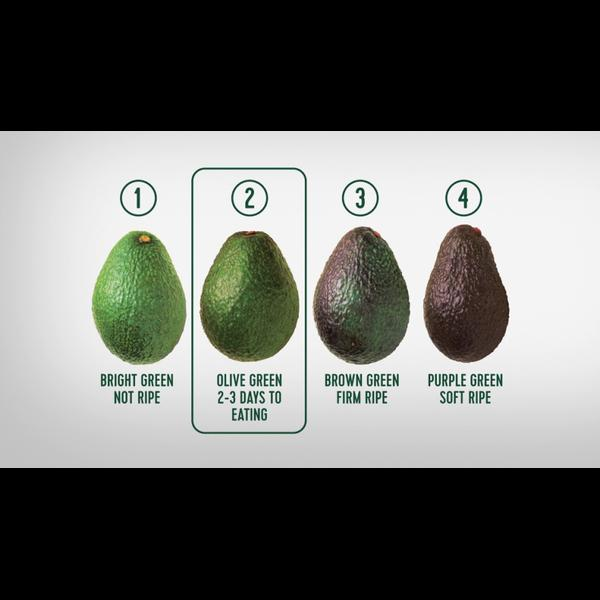almost: (313, 226, 411, 365)
ripe: (424, 224, 510, 363)
unripe: (200, 231, 299, 362), (92, 231, 186, 365)
